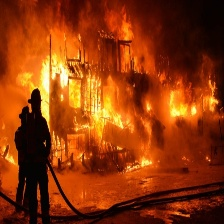fire: (27, 61, 123, 138), (168, 78, 223, 118), (122, 156, 154, 174), (1, 143, 16, 165)
